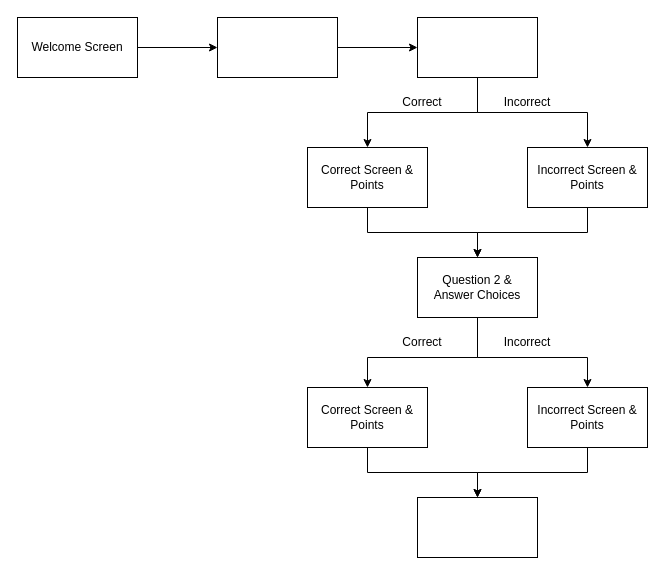
The diagram is 665 pixels wide and 575 high, and some of its shapes have lost their labels. The shapes that lost their labels are listed below. From the top down, each one's box as (x1, y1, x2, y2) in pixels, then its label:
(216, 16, 338, 78): User Name Input
(416, 16, 538, 78): Question 1 & Answer Choices
(416, 496, 538, 558): End Screen (Total Score and # of Right and Wrong)
